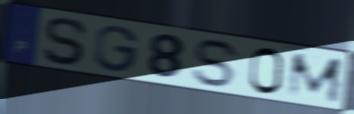0: (247, 46, 285, 96)
8: (147, 33, 186, 80)
G: (92, 25, 141, 74)
M: (285, 52, 344, 105)
S: (191, 38, 243, 90), (42, 16, 90, 68)
